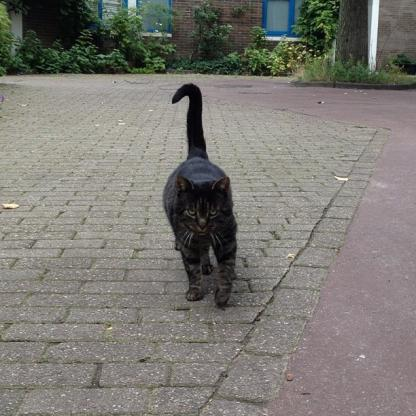Target: (158, 84, 243, 314)
